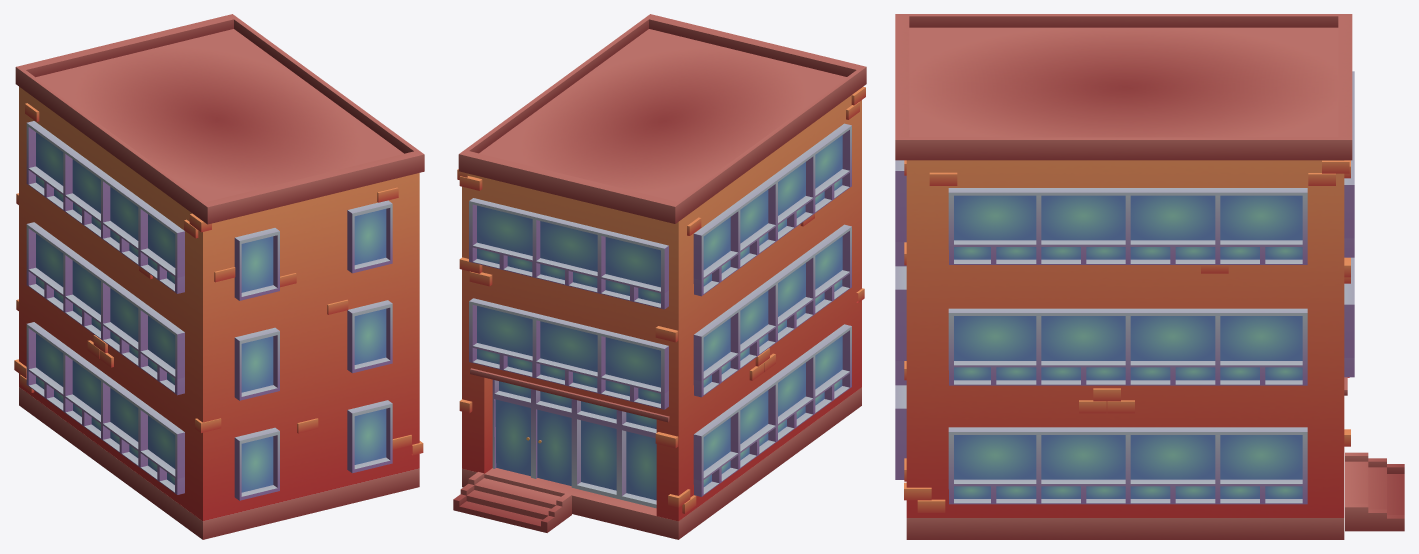
The model's file is SM_3F_L_Windowed_01.fbx.
3 views of the same model, side by side, from view 1: azimuth 30°, elevation 25°; view 2: azimuth 150°, elevation 25°; view 3: azimuth 270°, elevation 25° (orthographic). The views are drawn at different scales.
Visible parts, largest first — view 1: SM_3F_L_Windowed_01; view 2: SM_3F_L_Windowed_01; view 3: SM_3F_L_Windowed_01.
Boxes of the visible parts, <box> form: SM_3F_L_Windowed_01: <box>14,14,424,539</box>; SM_3F_L_Windowed_01: <box>453,14,866,539</box>; SM_3F_L_Windowed_01: <box>895,14,1404,539</box>.
Bounding box in the file's own units: 7.96 × 12.7 × 11.02.
